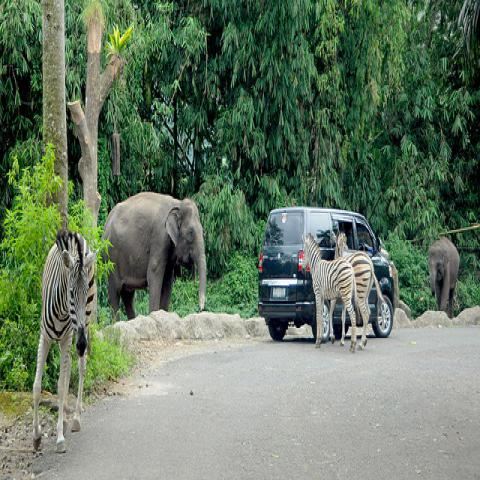car: (257, 208, 396, 339)
